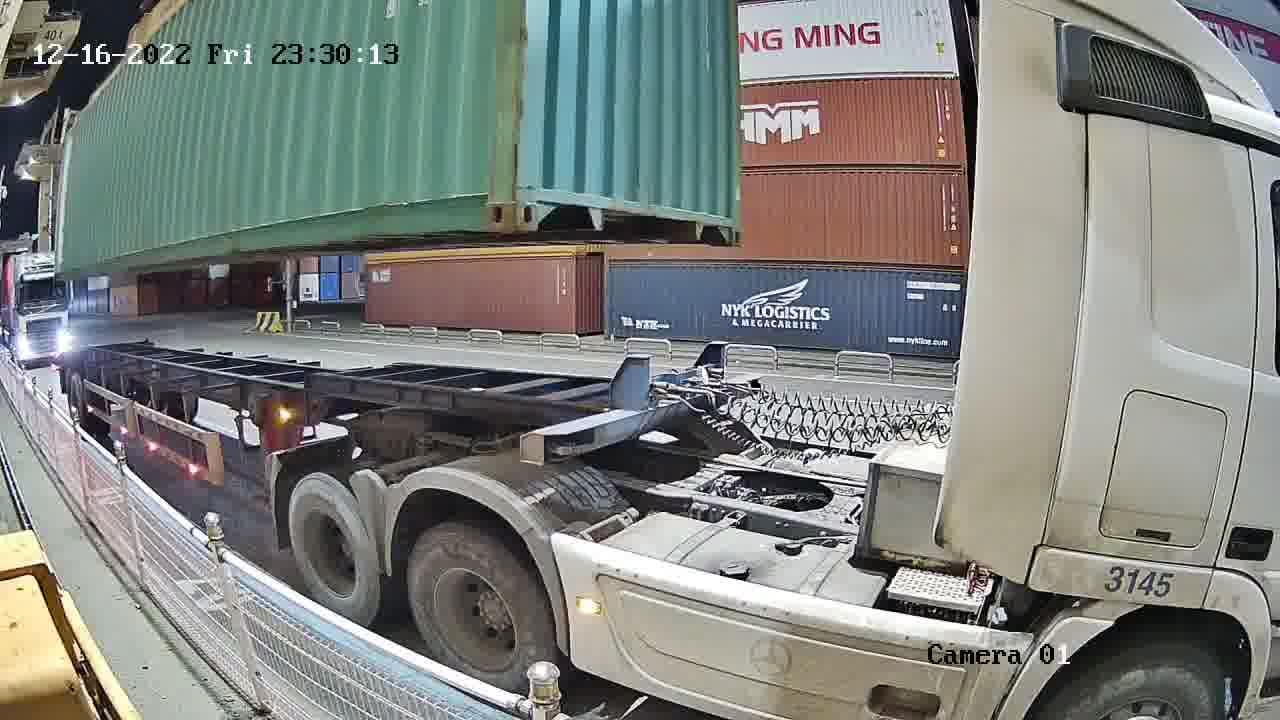Chassis: (518, 369, 764, 468)
Container: (518, 167, 743, 251)
Hole_L: (518, 164, 556, 233)
Hole_R: (467, 165, 518, 232), (715, 195, 742, 250)
Tire: (405, 528, 557, 692), (289, 479, 379, 627)
